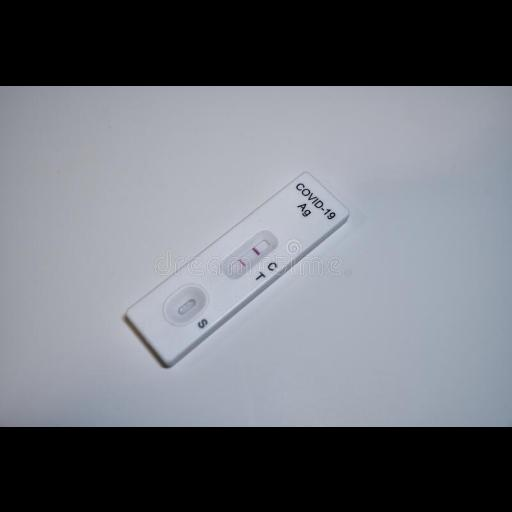Pos: (123, 171, 351, 364)
